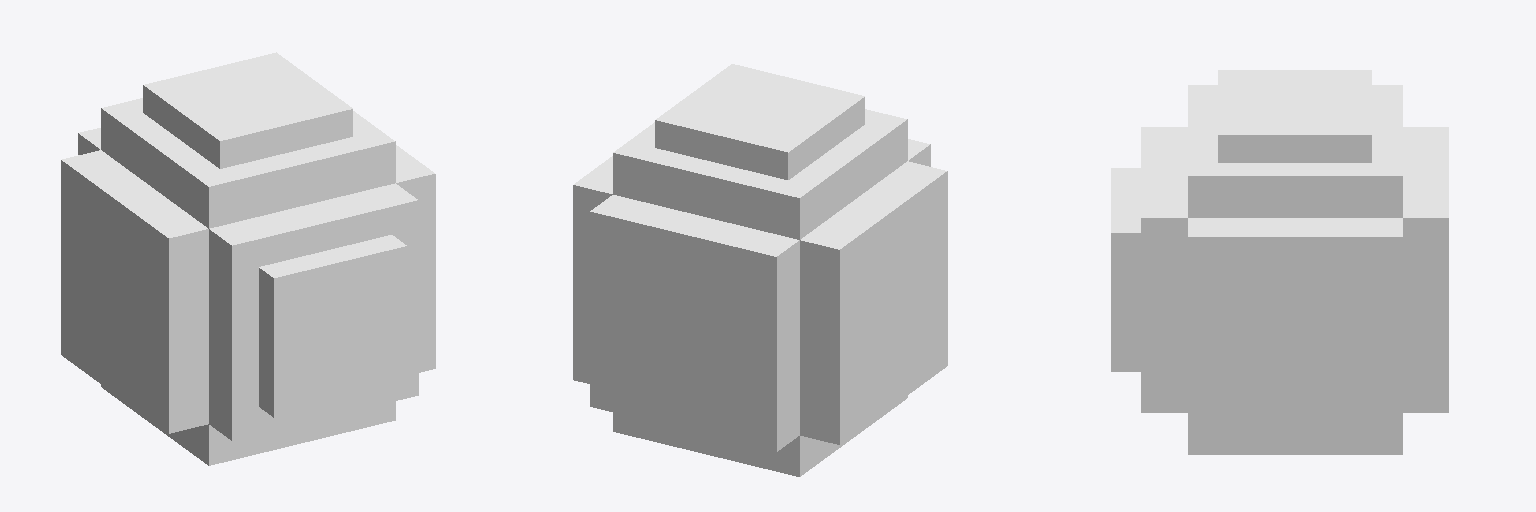
Rendered from cornerSnake3.obj.
3 renders of one model, left to right at view 1: azimuth 30°, elevation 25°; view 2: azimuth 150°, elevation 25°; view 3: azimuth 270°, elevation 25°, orthographic.
Visible parts, largest first — view 1: object 1; view 2: object 1; view 3: object 1.
Boxes of the visible parts, x1,y1,x2,y2 form: object 1: [61, 52, 435, 465]; object 1: [573, 64, 947, 476]; object 1: [1111, 70, 1448, 454].
Bounding box in the file's own units: 2 × 2.2 × 2.2.